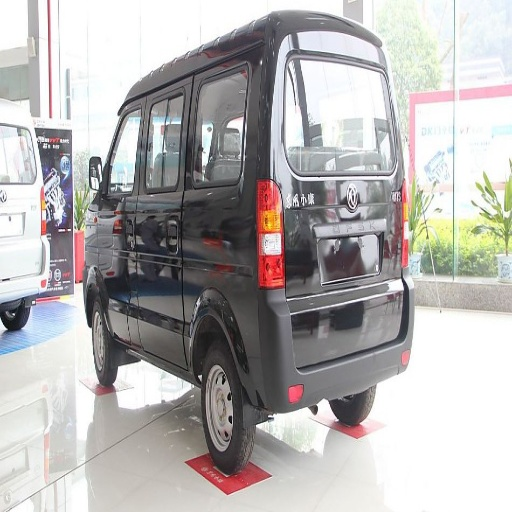back_bumper: (321, 331, 411, 389)
back_glass: (202, 58, 253, 118)
back_left_light: (256, 180, 285, 288)
back_right_door: (301, 47, 325, 119)
tailgate: (275, 149, 394, 291)
trunk: (148, 192, 401, 398)
